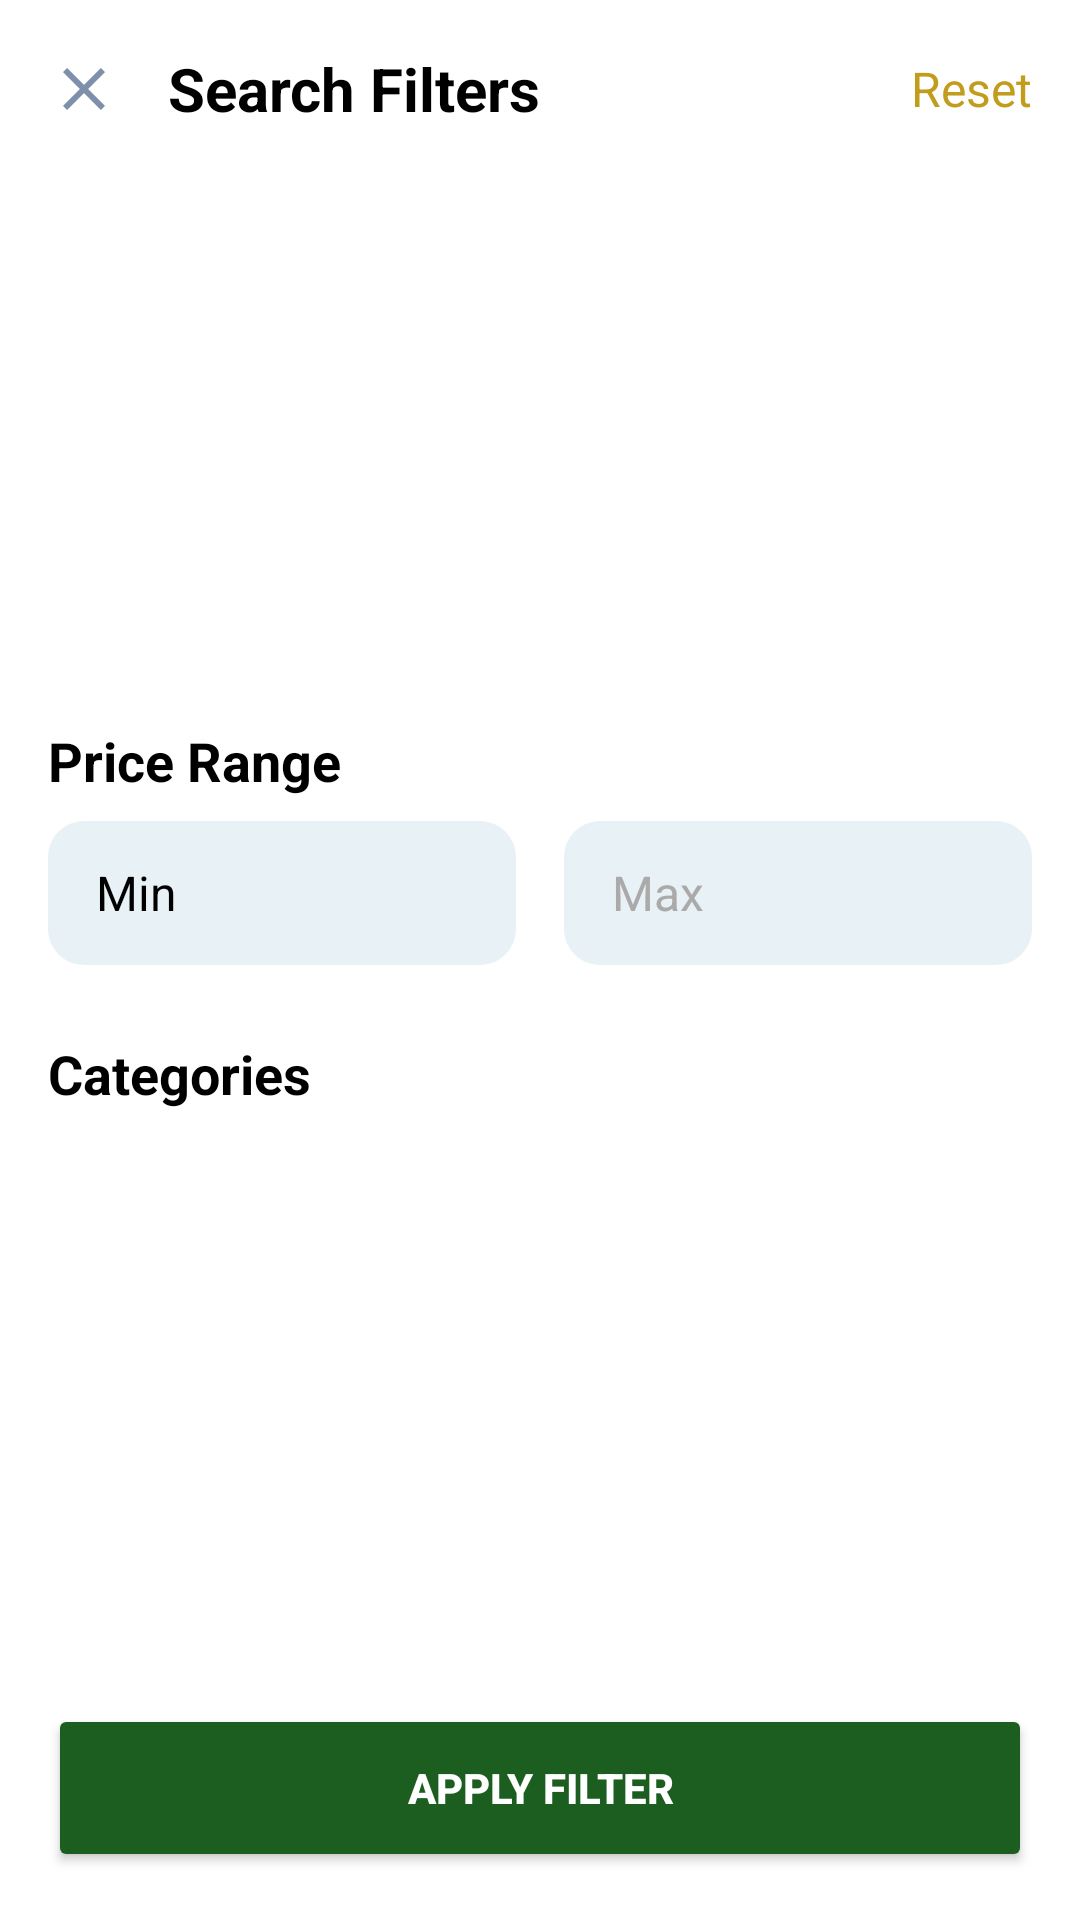

Icon bounding boxes for this 1080px×1920px phone screenshot, format (x1, y1, x2, y2):
close: (63, 68, 105, 110)
